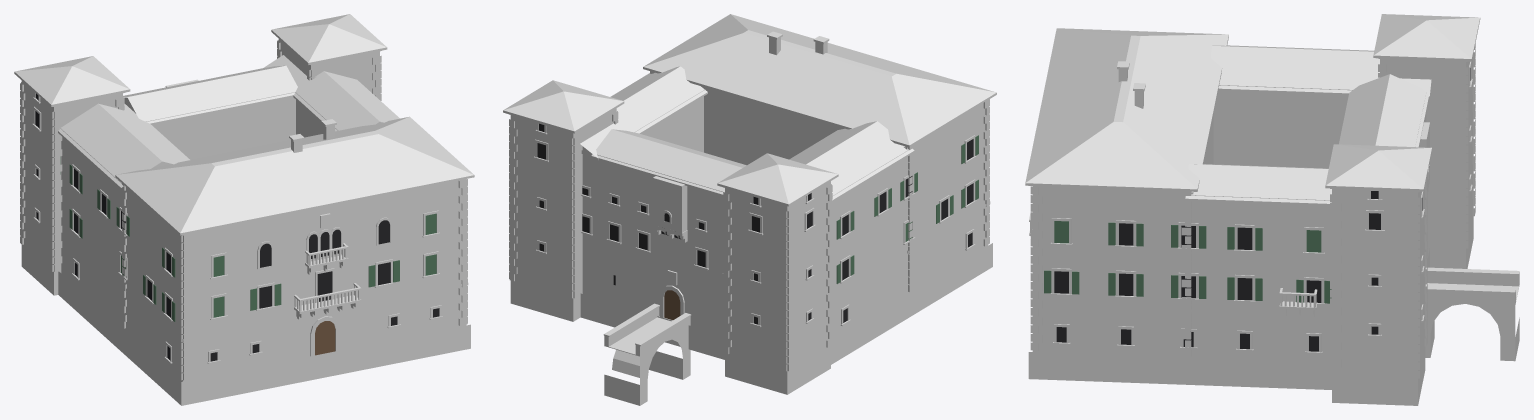
Rendered from vitturi.glb.
3 renders of one model, left to right at view 1: azimuth 30°, elevation 25°; view 2: azimuth 150°, elevation 25°; view 3: azimuth 270°, elevation 25°, orthographic. The views are drawn at different scales.
Visible parts, largest first — view 1: vitturi_LOD0; view 2: vitturi_LOD0; view 3: vitturi_LOD0.
Part boxes in pixels (<box>): vitturi_LOD0: <box>14,14,474,405</box>; vitturi_LOD0: <box>503,14,996,405</box>; vitturi_LOD0: <box>1025,14,1519,405</box>.
Size of what is drawn, in the model's own units: 28.15 by 19.49 by 32.05.
